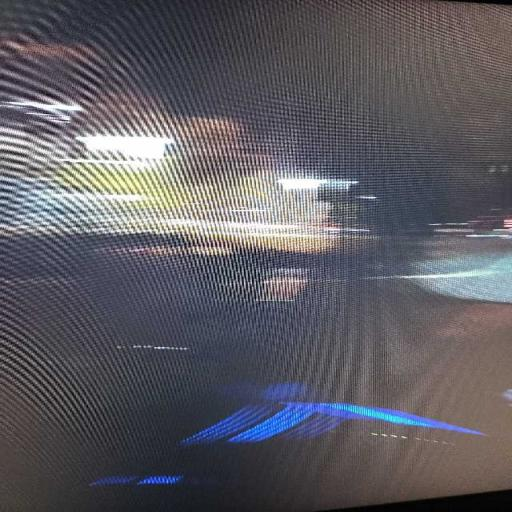lane: (0, 240, 511, 509)
